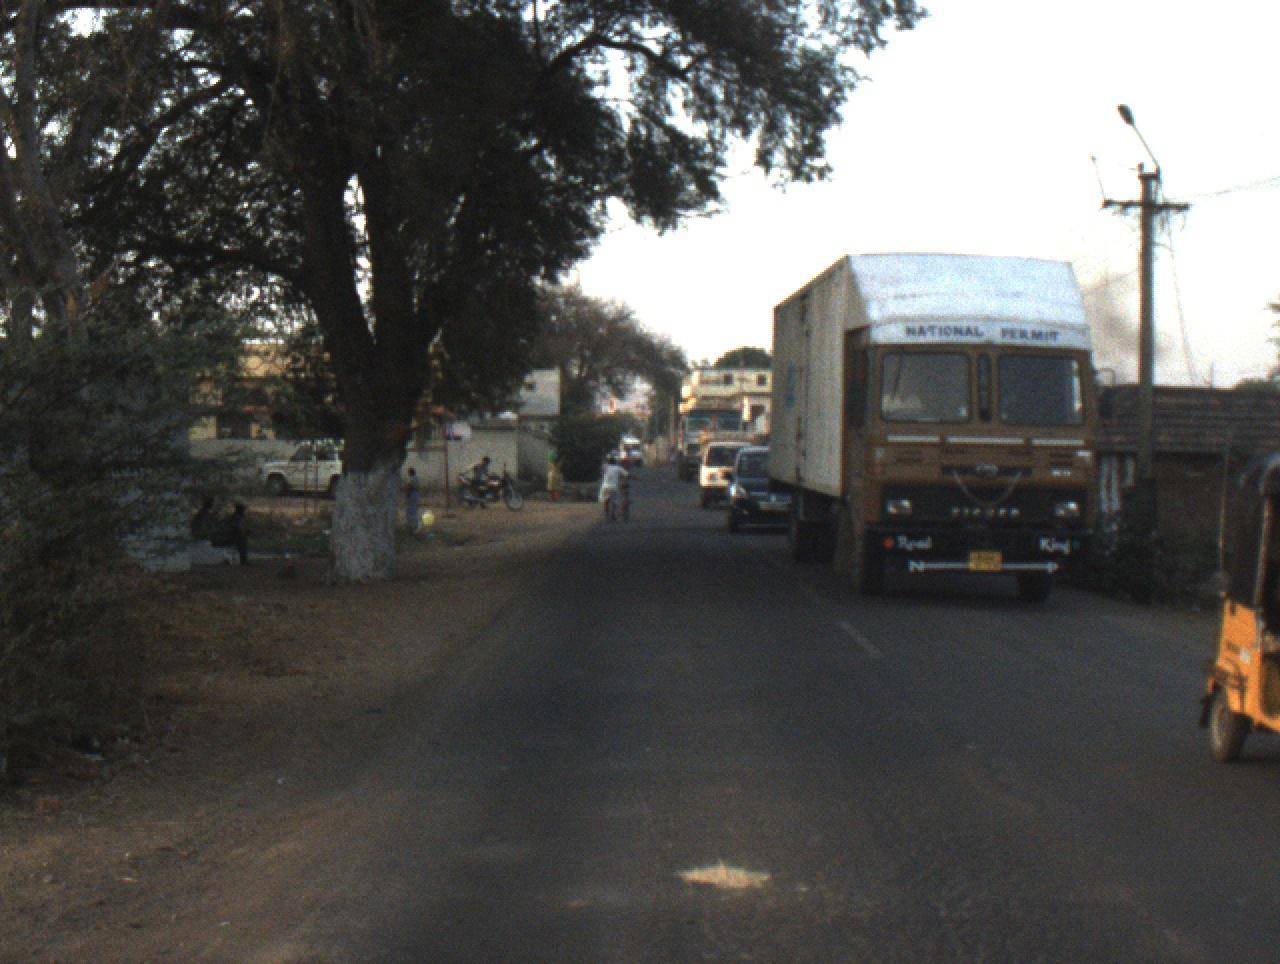off: (195, 0, 1280, 964)
